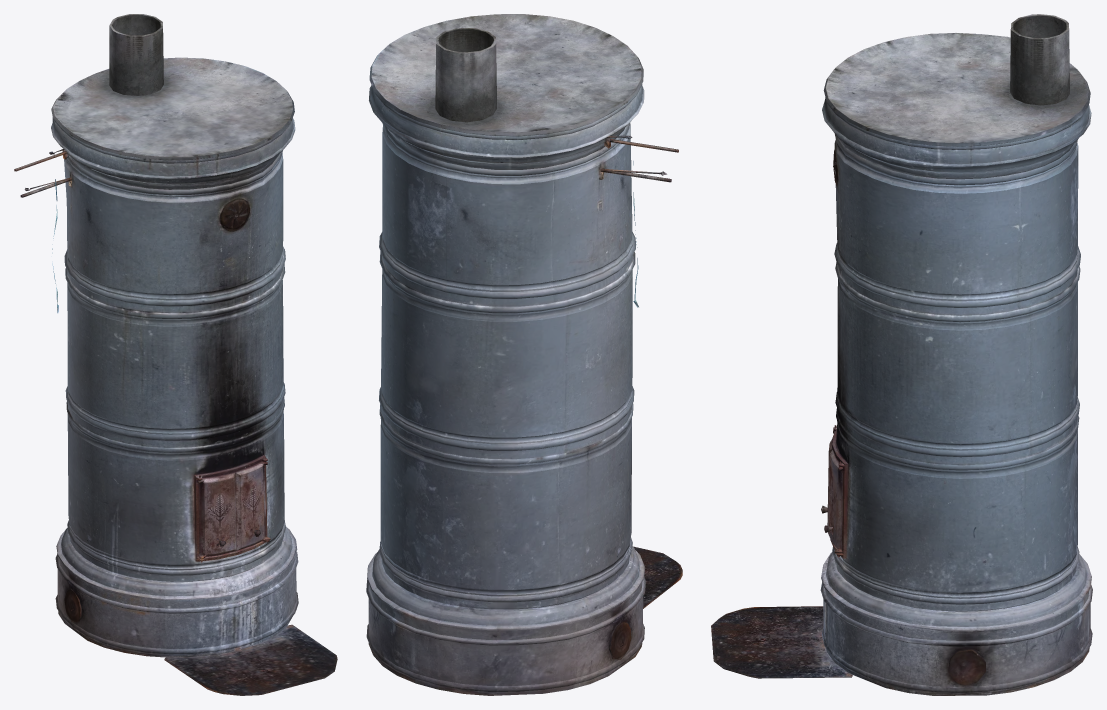
The model's file is scandinavian_masonry_heater.glb.
3 renders of one model, left to right at view 1: azimuth 30°, elevation 25°; view 2: azimuth 150°, elevation 25°; view 3: azimuth 270°, elevation 25°, orthographic. The views are drawn at different scales.
Visible parts, largest first — view 1: scandinavian_masonry_heater; view 2: scandinavian_masonry_heater; view 3: scandinavian_masonry_heater.
Part boxes in pixels (bbox=[...]): scandinavian_masonry_heater: bbox=[14, 14, 337, 695]; scandinavian_masonry_heater: bbox=[366, 14, 682, 695]; scandinavian_masonry_heater: bbox=[711, 14, 1092, 695].
Size of the model in its own units: 1.17 by 2.36 by 1.33.
1 material, 1 textured.
